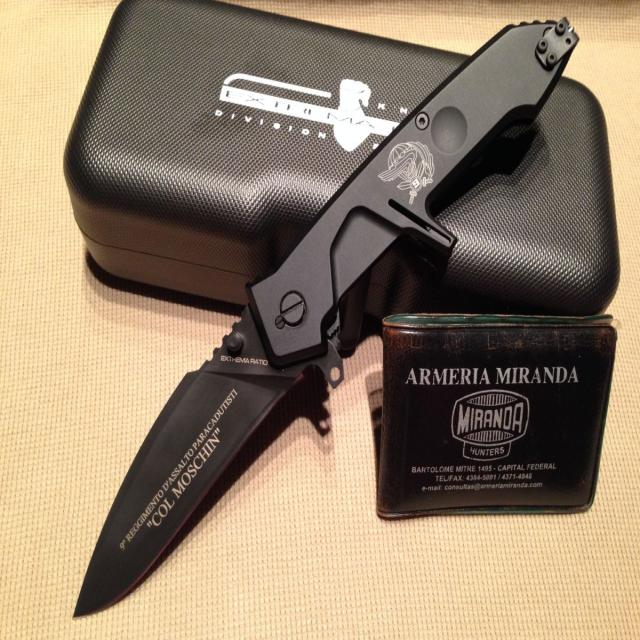knife: (71, 18, 586, 622)
